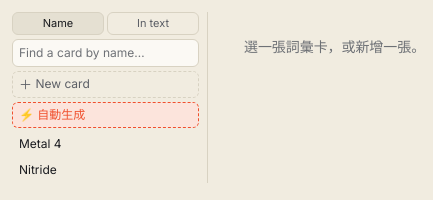
Test: ContextCardsTab (#106) › finds cards mentioned in a pasted passage (In text mode)
This screenshot has width=433, height=200.
Expected: the button "Metal 4" is shown, [12,132,199,157]
Click the tab "In text".
click(153, 24)  # box [107,12,199,35]
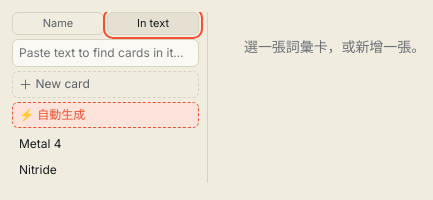
Type "the M4 reflow step" into the field named "Search cards".
click(106, 53); type("the M4 reflow step")  # box [12,39,199,67]
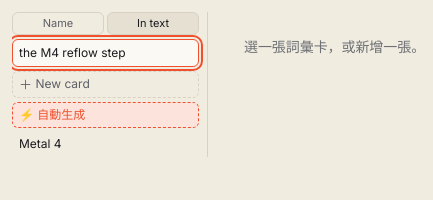
Expected: the button "Metal 4" is shown, [12,132,199,157]
Expected: the button "Nitride" is gone
